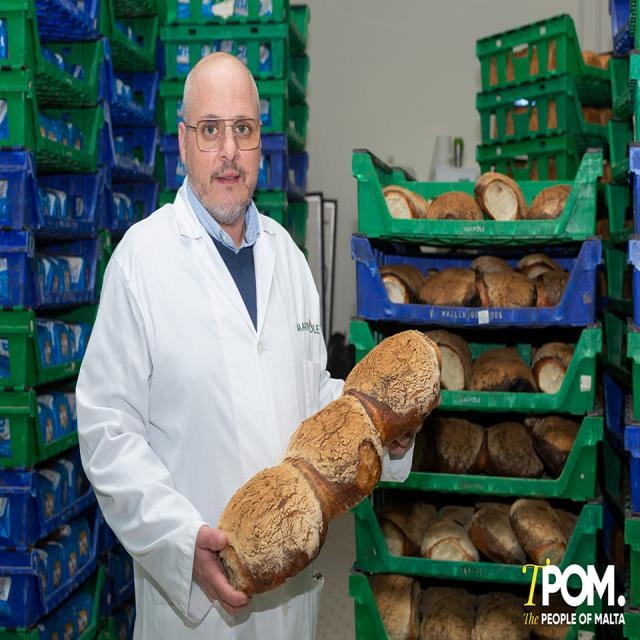Maltese-Bread: (219, 461, 328, 596), (283, 395, 381, 535), (341, 330, 440, 447), (468, 503, 533, 564), (510, 499, 569, 564), (481, 422, 543, 477), (525, 414, 579, 476), (425, 417, 484, 473), (468, 347, 538, 390), (427, 330, 471, 390), (421, 518, 479, 561), (475, 172, 527, 219), (475, 268, 536, 305), (419, 269, 479, 305), (532, 343, 573, 393), (380, 265, 423, 303), (427, 191, 484, 218), (528, 184, 571, 218), (383, 186, 427, 217), (535, 268, 569, 306)
